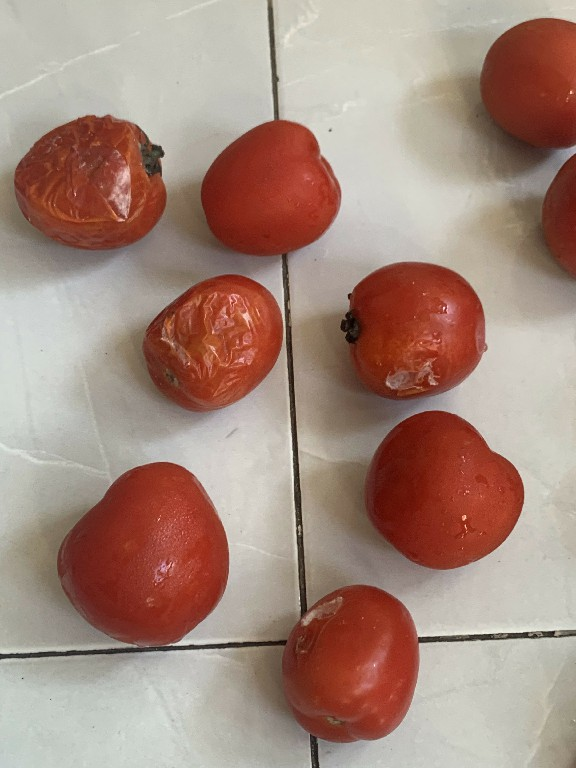NG: (5, 97, 177, 259), (269, 577, 425, 755), (335, 243, 497, 412), (140, 269, 291, 421)
OK: (46, 453, 238, 658), (358, 399, 528, 579), (187, 109, 355, 264)
